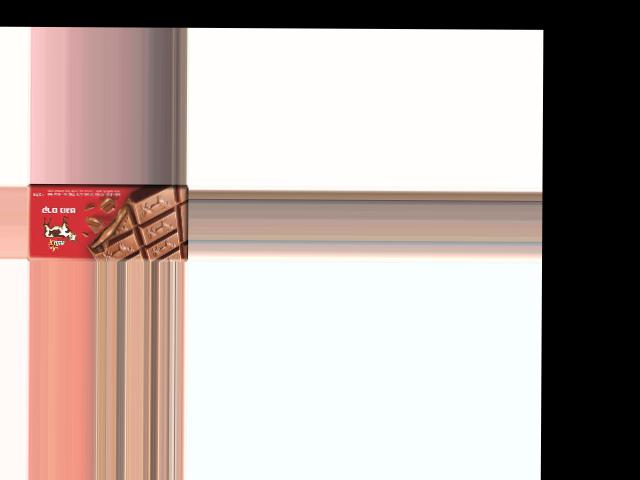chocolate: (26, 185, 186, 261)
